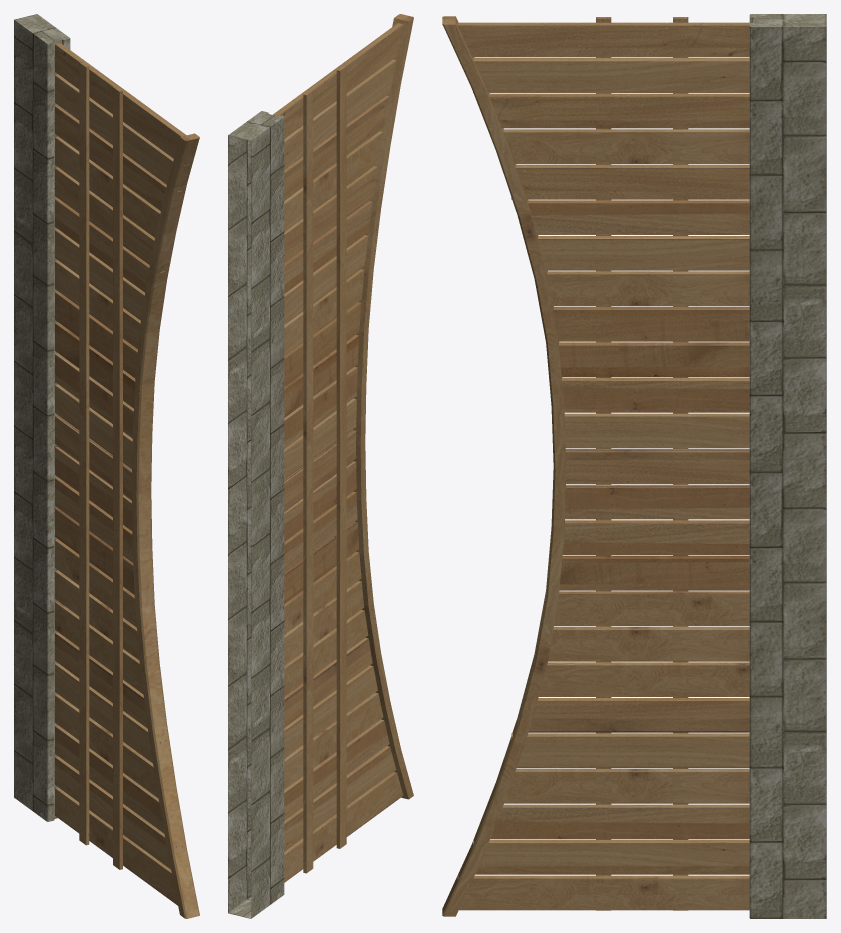
Rendered from nt_concrete_fence_128_LOD0.obj.
3 views of the same model, side by side, from view 1: azimuth 30°, elevation 25°; view 2: azimuth 150°, elevation 25°; view 3: azimuth 270°, elevation 25° (orthographic). The views are drawn at different scales.
Parts seen in each view (by area): view 1: nt_wood_fence, nt_2020_concrete_pattern_02; view 2: nt_wood_fence, nt_2020_concrete_pattern_02; view 3: nt_wood_fence, nt_2020_concrete_pattern_02.
Boxes of the visible parts, box(x1,y1,x2,y2) form: nt_wood_fence: box(55, 43, 199, 918); nt_2020_concrete_pattern_02: box(14, 14, 70, 821); nt_wood_fence: box(272, 14, 413, 882); nt_2020_concrete_pattern_02: box(228, 111, 284, 918); nt_wood_fence: box(442, 16, 752, 916); nt_2020_concrete_pattern_02: box(749, 14, 826, 918).
Bounding box in the file's own units: 10.16 × 325 × 127.
